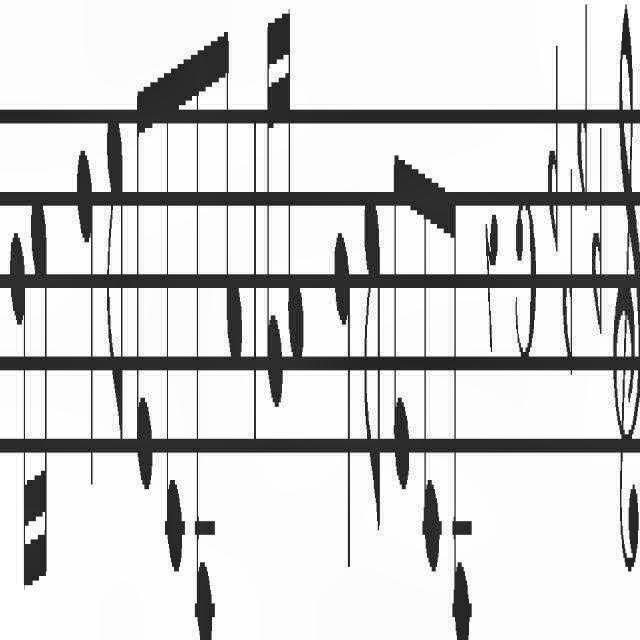Bass-clef: (611, 0, 640, 576), (639, 0, 640, 576)
Bemol: (590, 113, 604, 351), (576, 2, 588, 230), (546, 47, 558, 261), (562, 168, 574, 378)
Eighth-note: (191, 32, 215, 640), (163, 55, 184, 578), (421, 155, 444, 588), (134, 74, 154, 514), (219, 22, 243, 374), (453, 178, 471, 640), (391, 134, 413, 512), (363, 196, 383, 552), (106, 105, 124, 471)
Eighth-rest: (486, 193, 498, 363)
Quarter-note: (332, 230, 352, 590), (78, 145, 94, 511)
Sixteenth-note: (284, 0, 308, 370), (10, 226, 30, 632), (31, 196, 49, 616), (266, 6, 282, 418)
